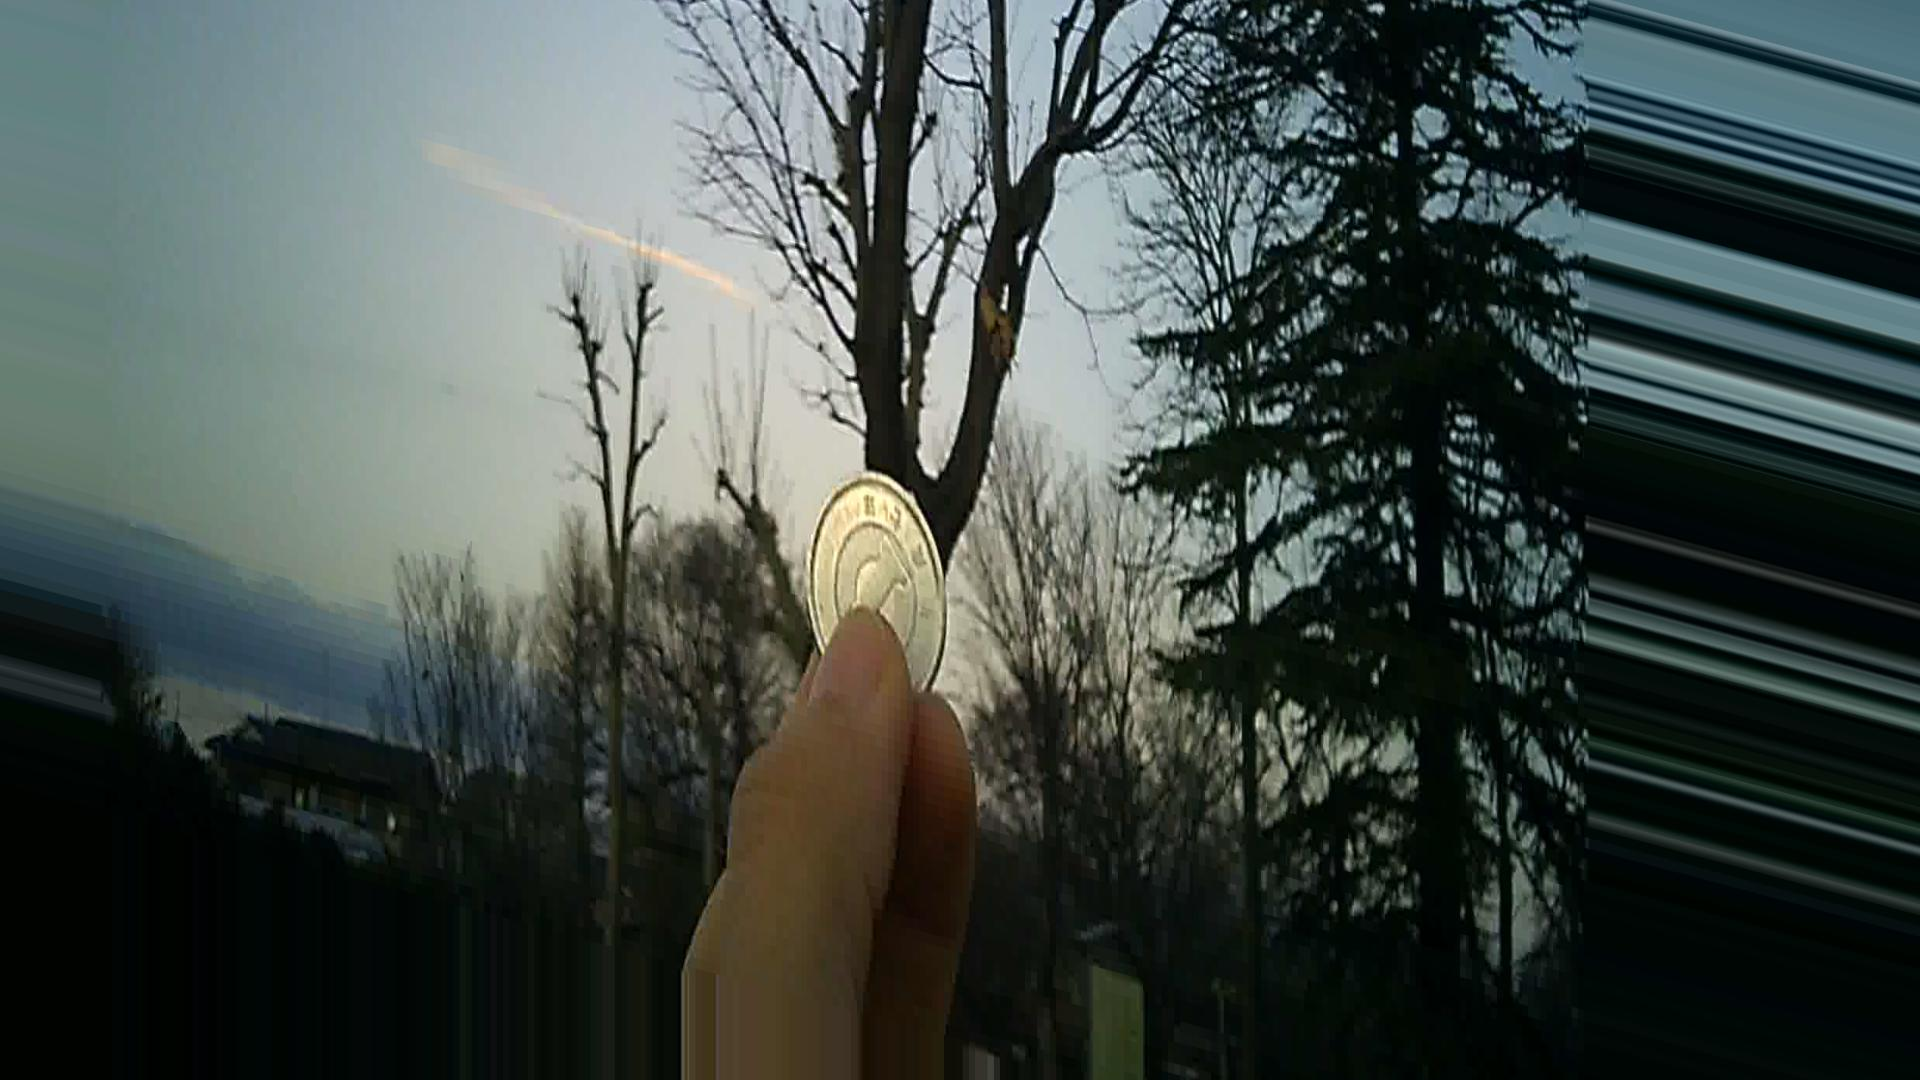1 Yen: (796, 469, 949, 707)
